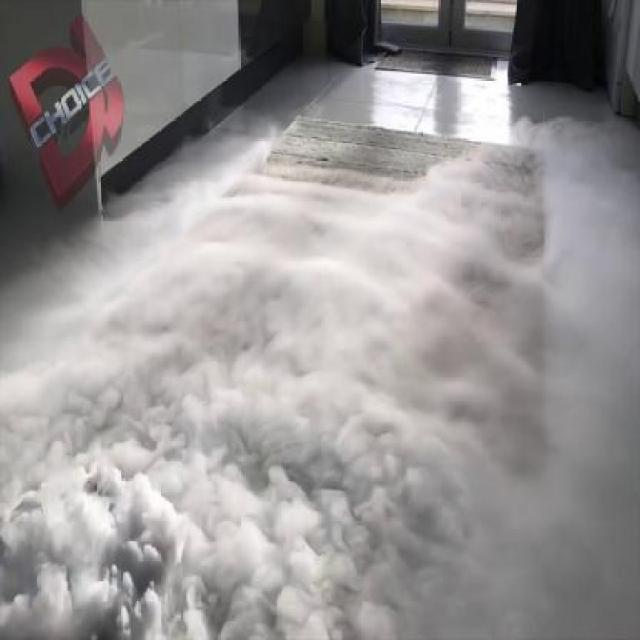smoke: (3, 178, 639, 640)
